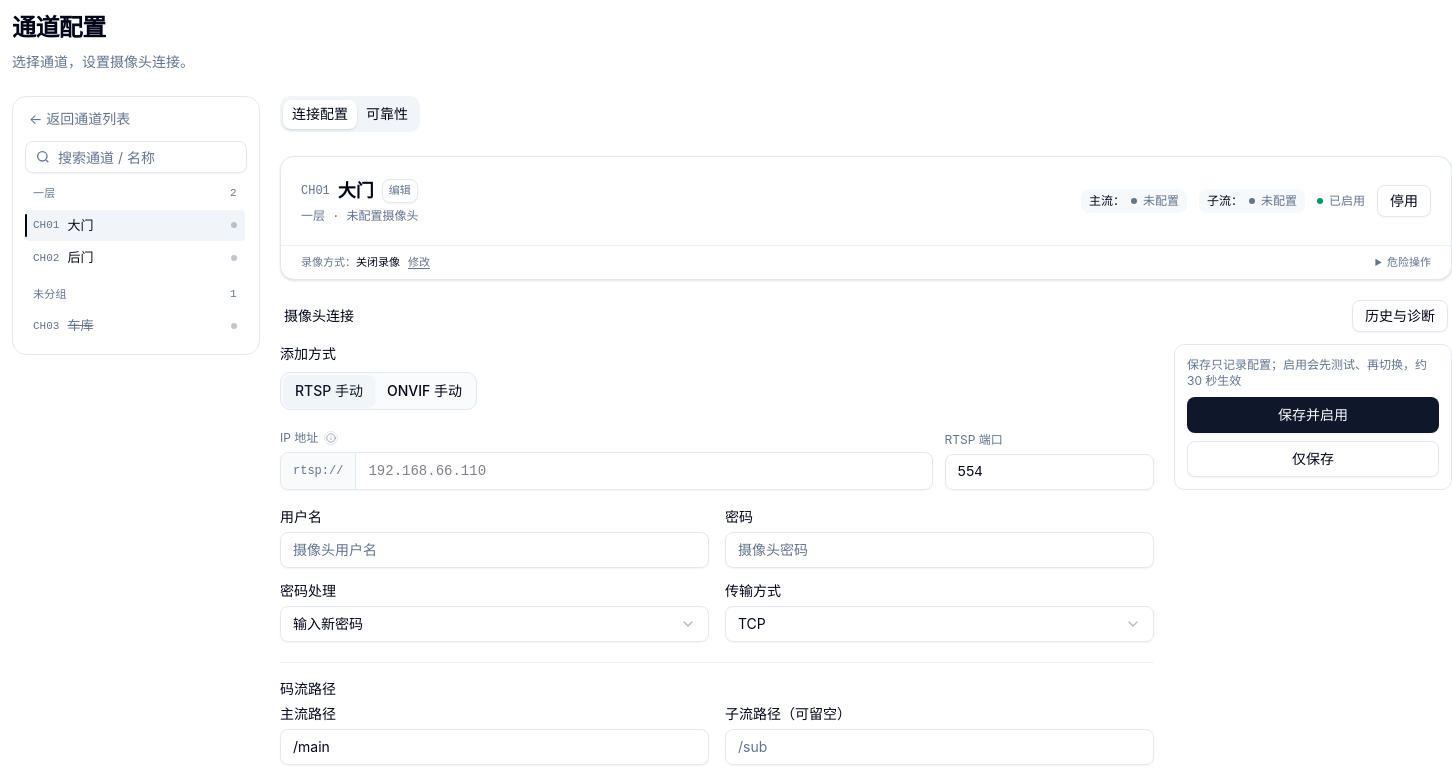
Test case: one click tests and connects a first camera without requiring storage or recording
In the field labelled "IP 地址": (644, 470) [356,452,932,488], type "192.168.33.20"
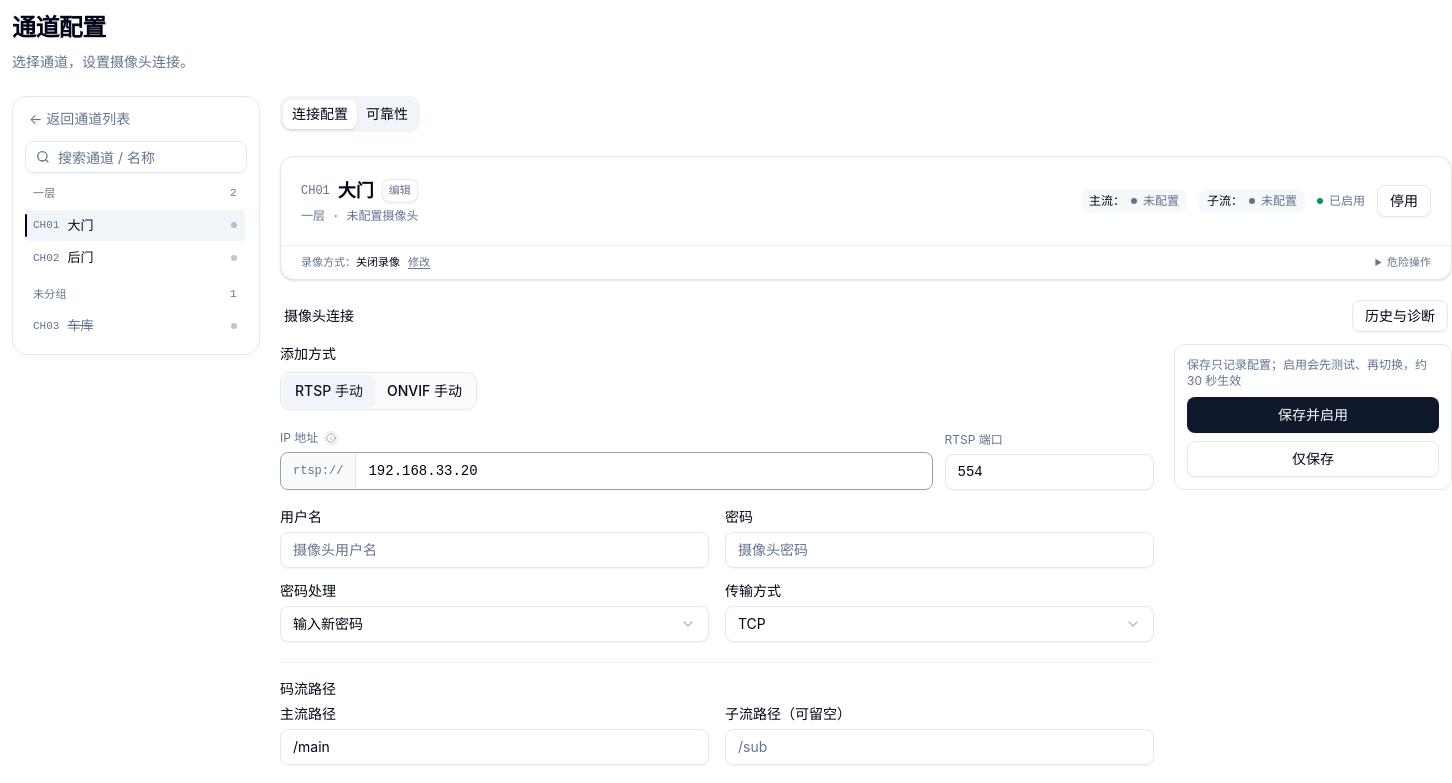
In the password field labelled "密码": (940, 550) [725,532,1154,568], type "isolated-fixture-password"
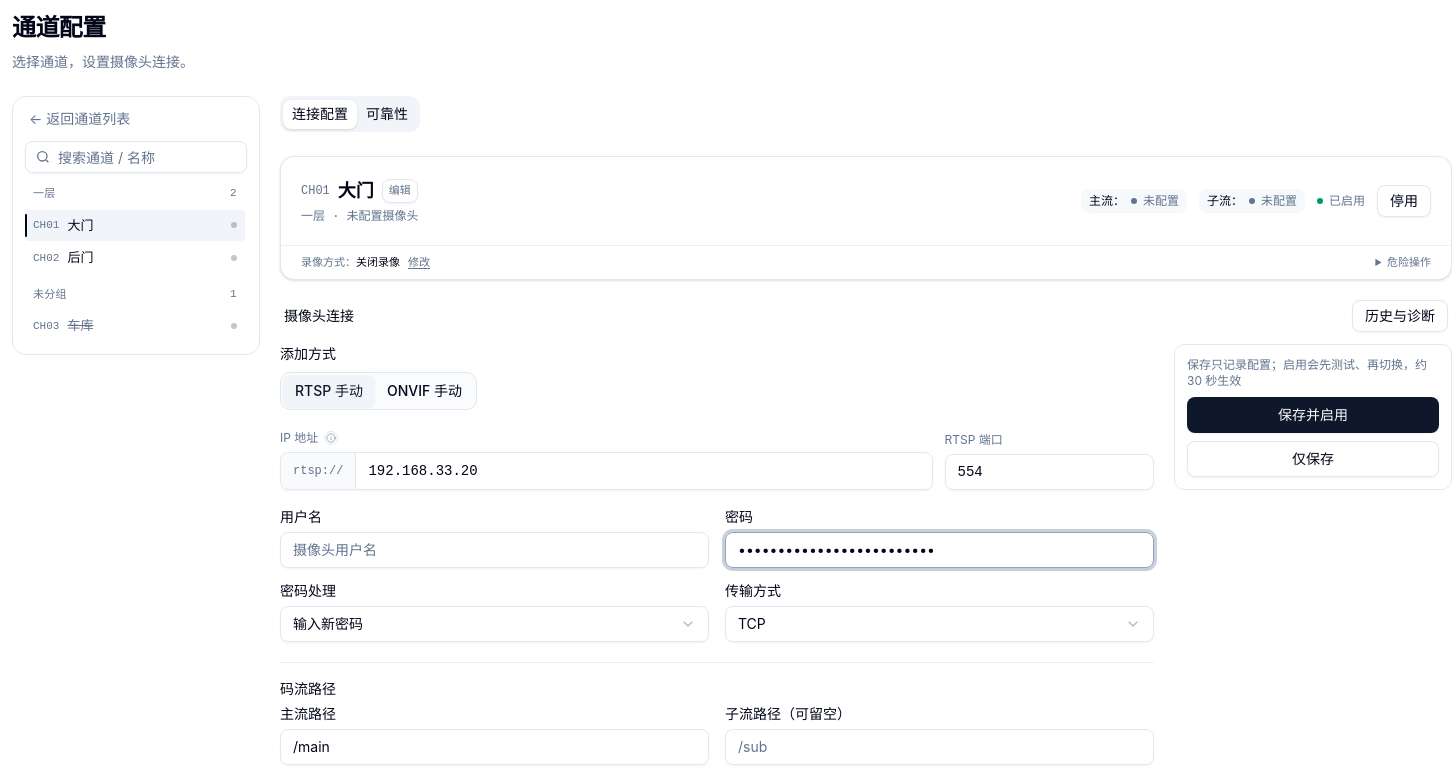
Click the button "保存并启用": click(1313, 414) [1187,396,1439,432]
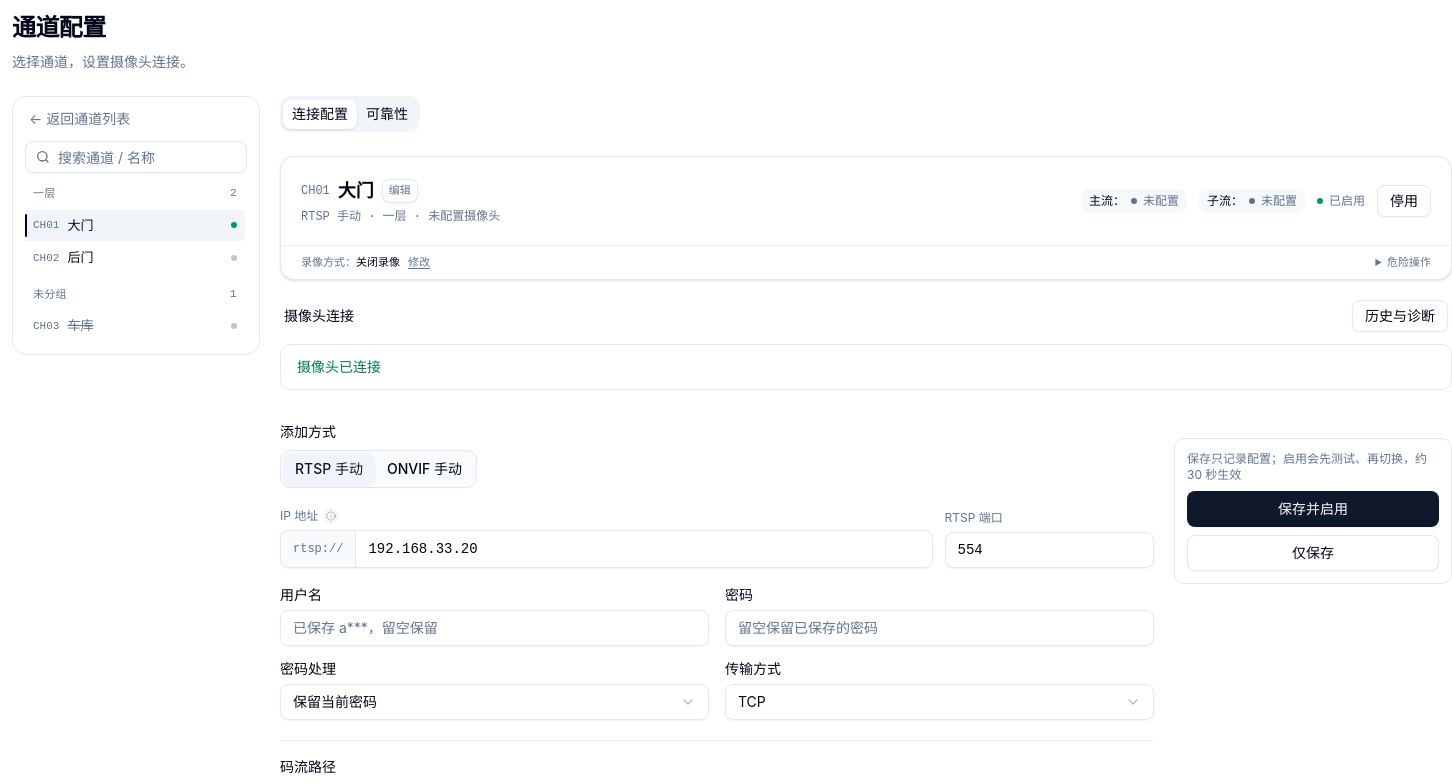
Expected: the text "摄像头已连接" is shown, [297,358,381,374]
